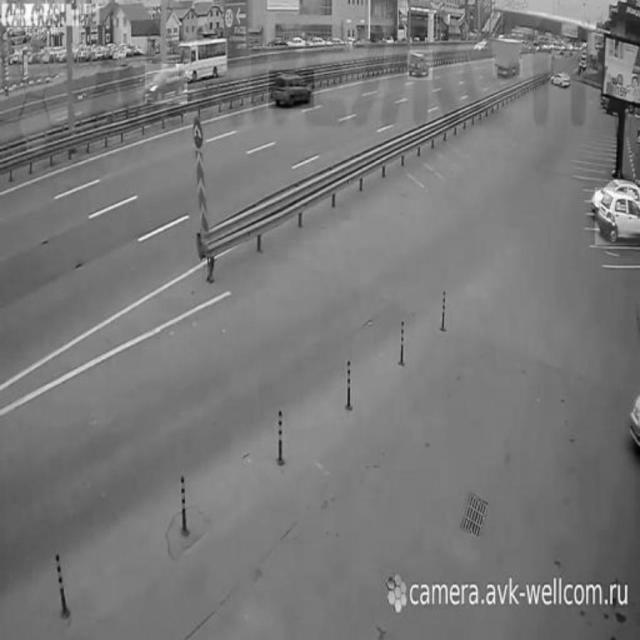vehicle: (595, 188, 640, 245), (179, 39, 230, 76), (269, 70, 314, 108), (146, 65, 188, 105), (493, 34, 523, 78), (408, 50, 434, 80), (550, 67, 572, 92)
